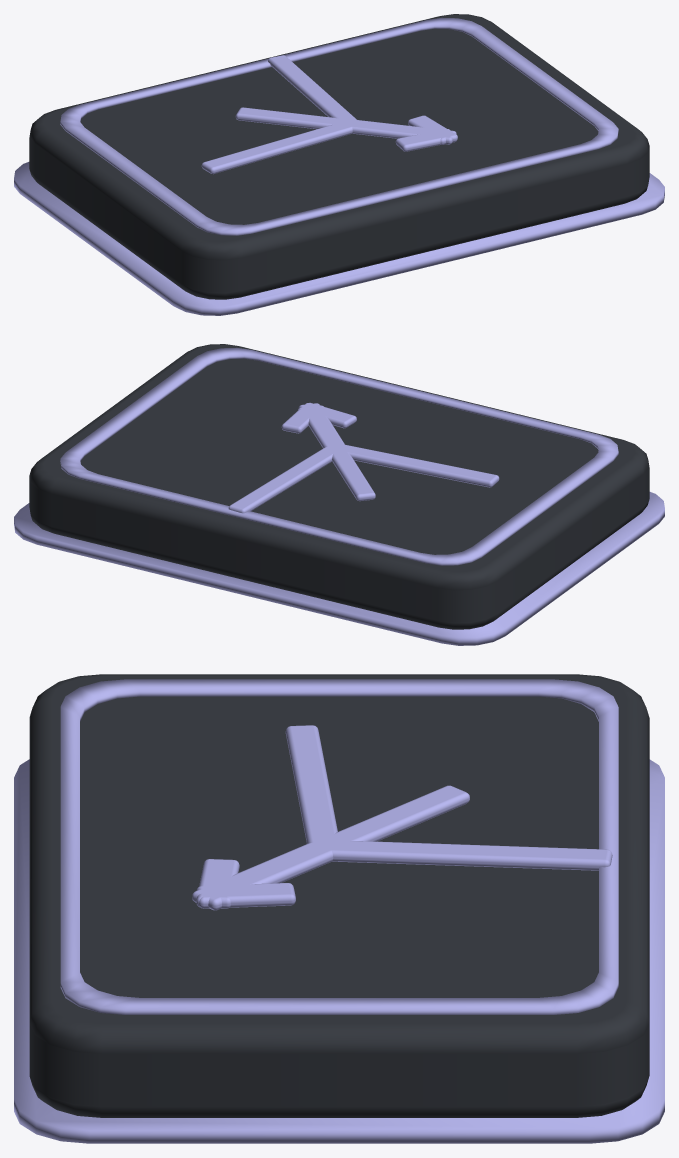
Rendered from join.glb.
3 renders of one model, top to bottom at view 1: azimuth 30°, elevation 25°; view 2: azimuth 150°, elevation 25°; view 3: azimuth 270°, elevation 25°, orthographic. The views are drawn at different scales.
Parts seen in each view (by area): view 1: module, edge, rim, line, line.002, line.001, line.003, line.005, line.004; view 2: module, edge, rim, line, line.002, line.001, line.003, line.004, line.005; view 3: module, edge, rim, line.002, line, line.001, line.003, line.004, line.005.
Boxes of the visible parts, <box> form: module: <box>29,14,649,299</box>; edge: <box>60,17,618,235</box>; rim: <box>14,162,664,315</box>; line: <box>201,119,360,174</box>; line.002: <box>268,55,356,119</box>; line.001: <box>235,107,359,129</box>; line.003: <box>346,119,456,144</box>; line.005: <box>395,129,457,151</box>; line.004: <box>408,115,457,144</box>; module: <box>29,344,649,629</box>; edge: <box>60,347,618,565</box>; rim: <box>14,492,664,645</box>; line: <box>339,444,499,487</box>; line.002: <box>228,442,344,513</box>; line.001: <box>332,443,375,501</box>; line.003: <box>298,403,344,450</box>; line.004: <box>281,403,323,433</box>; line.005: <box>297,402,356,428</box>; module: <box>29,674,649,1117</box>; edge: <box>60,679,618,1014</box>; rim: <box>14,759,664,1143</box>; line.002: <box>313,840,612,870</box>; line: <box>285,725,337,849</box>; line.001: <box>326,785,469,841</box>; line.003: <box>192,837,333,910</box>; line.004: <box>196,883,295,908</box>; line.005: <box>196,859,239,908</box>.
Bounding box in the file's own units: 0.882 × 0.12 × 0.63.
